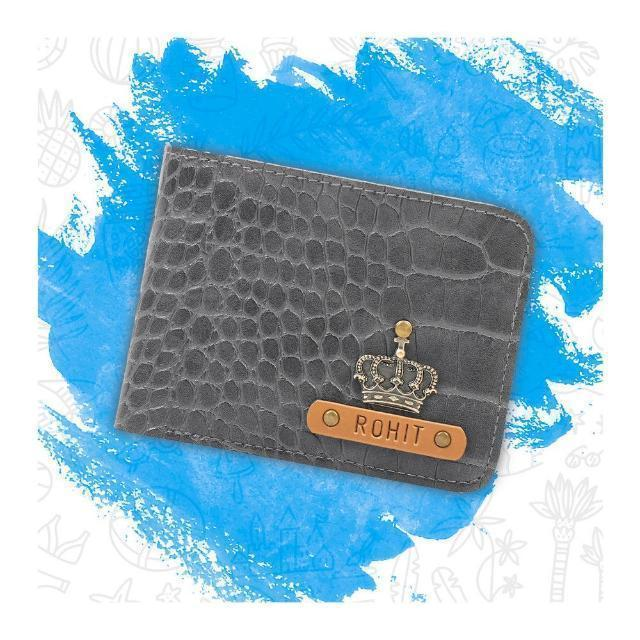wallet: (110, 144, 532, 490)
